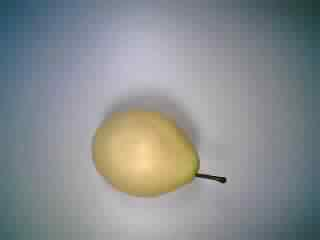pear: (82, 100, 239, 206)
